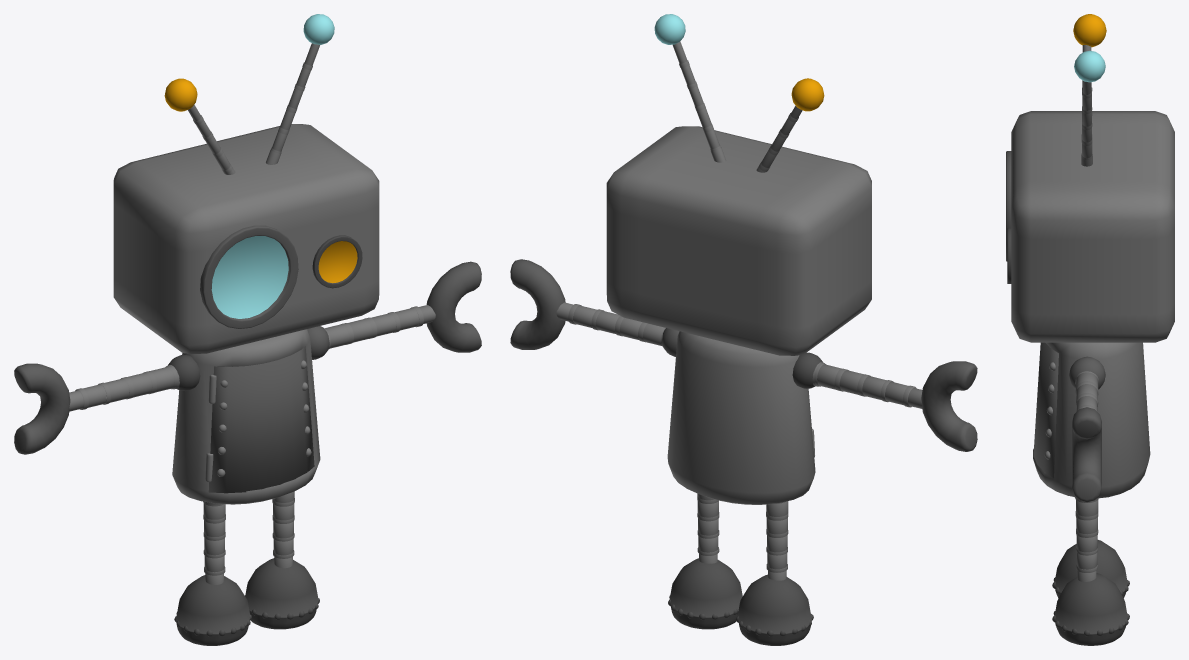
Rendered from ROBOT.fbx.
The picture shows the model from 3 angles, left to right: view 1: azimuth 30°, elevation 25°; view 2: azimuth 150°, elevation 25°; view 3: azimuth 270°, elevation 25°; orthographic projection.
Visible parts, largest first — view 1: Cube, Cylinder.006, Cylinder.004, Cylinder.002, Sphere.003, Sphere.021, Torus.001, Torus.002, Cylinder.005, Cylinder.009, Cylinder.003, Cylinder.008 (+6 smaller); view 2: Cube, Cylinder.004, Sphere.003, Sphere.021, Torus.001, Torus.002, Cylinder.005, Cylinder.009, Cylinder.008, Cylinder.007, Cylinder.013, Sphere (+3 smaller); view 3: Cube, Cylinder.004, Sphere.021, Torus.002, Cylinder.006, Cylinder.007, Sphere.003, Cylinder.013, Sphere, Cylinder.009, Sphere.001, Sphere.005 (+2 smaller).
Boxes of the visible parts, x1=… form: Cube: x1=113, y1=124, x2=379, y2=353; Cylinder.006: x1=208, y1=346, x2=314, y2=493; Cylinder.004: x1=172, y1=329, x2=320, y2=504; Cylinder.002: x1=200, y1=225, x2=298, y2=328; Sphere.003: x1=174, y1=575, x2=251, y2=645; Sphere.021: x1=245, y1=558, x2=319, y2=629; Torus.001: x1=14, y1=363, x2=70, y2=454; Torus.002: x1=426, y1=261, x2=481, y2=352; Cylinder.005: x1=69, y1=365, x2=179, y2=411; Cylinder.009: x1=324, y1=305, x2=435, y2=348; Cylinder.003: x1=312, y1=235, x2=362, y2=288; Cylinder.008: x1=203, y1=501, x2=225, y2=584; Cube: x1=606, y1=126, x2=871, y2=355; Cylinder.004: x1=667, y1=331, x2=815, y2=504; Sphere.003: x1=736, y1=574, x2=813, y2=645; Sphere.021: x1=668, y1=558, x2=742, y2=629; Torus.001: x1=921, y1=361, x2=977, y2=451; Torus.002: x1=510, y1=259, x2=565, y2=349; Cylinder.005: x1=812, y1=362, x2=922, y2=408; Cylinder.009: x1=556, y1=302, x2=665, y2=346; Cylinder.008: x1=766, y1=501, x2=788, y2=580; Cylinder.007: x1=697, y1=493, x2=719, y2=563; Cylinder.013: x1=672, y1=41, x2=726, y2=162; Sphere: x1=791, y1=78, x2=824, y2=111; Cube: x1=1011, y1=111, x2=1174, y2=342; Cylinder.004: x1=1033, y1=342, x2=1150, y2=498; Sphere.021: x1=1052, y1=573, x2=1129, y2=645; Torus.002: x1=1072, y1=407, x2=1101, y2=502; Cylinder.006: x1=1033, y1=342, x2=1058, y2=477; Cylinder.007: x1=1074, y1=497, x2=1098, y2=581; Sphere.003: x1=1052, y1=540, x2=1129, y2=597; Cylinder.013: x1=1081, y1=80, x2=1092, y2=166; Sphere: x1=1073, y1=14, x2=1106, y2=47; Cylinder.009: x1=1075, y1=371, x2=1098, y2=411; Sphere.001: x1=1074, y1=50, x2=1105, y2=82; Sphere.005: x1=1069, y1=356, x2=1105, y2=389.
Bounding box in the file's own units: 259 × 320 × 81.58.
